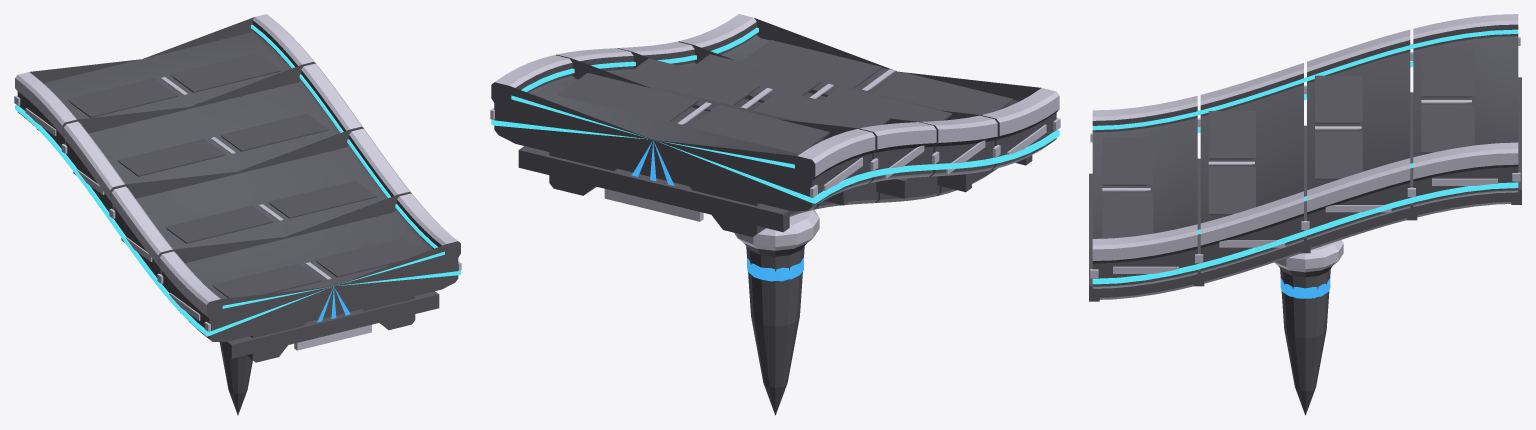
The model's file is Bridge_Ramp_4m_quest.glb.
The picture shows the model from 3 angles, left to right: view 1: azimuth 30°, elevation 25°; view 2: azimuth 150°, elevation 25°; view 3: azimuth 270°, elevation 25°; orthographic projection. The views are drawn at different scales.
Parts seen in each view (by area): view 1: Bridge_Ramp_4m_Deck, Bridge_Ramp_4m_EdgeLight, Bridge_Ramp_4m_Pylons; view 2: Bridge_Ramp_4m_Deck, Bridge_Ramp_4m_Pylons, Bridge_Ramp_4m_EdgeLight, Bridge_Ramp_4m_Conduits; view 3: Bridge_Ramp_4m_Deck, Bridge_Ramp_4m_Pylons, Bridge_Ramp_4m_EdgeLight, Bridge_Ramp_4m_Conduits.
Boxes of the visible parts, left/top/right/bottom form: Bridge_Ramp_4m_Deck: left=14, top=14, right=461, bottom=362; Bridge_Ramp_4m_EdgeLight: left=15, top=24, right=460, bottom=336; Bridge_Ramp_4m_Pylons: left=219, top=342, right=252, bottom=415; Bridge_Ramp_4m_Deck: left=490, top=14, right=1060, bottom=237; Bridge_Ramp_4m_Pylons: left=734, top=209, right=819, bottom=415; Bridge_Ramp_4m_EdgeLight: left=491, top=27, right=1059, bottom=203; Bridge_Ramp_4m_Conduits: left=631, top=140, right=803, bottom=281; Bridge_Ramp_4m_Deck: left=1089, top=14, right=1521, bottom=301; Bridge_Ramp_4m_Pylons: left=1274, top=240, right=1343, bottom=415; Bridge_Ramp_4m_EdgeLight: left=1092, top=29, right=1518, bottom=284; Bridge_Ramp_4m_Conduits: left=1280, top=278, right=1330, bottom=298.
Size of the model in its own units: 3.06 by 3.47 by 4.07.
